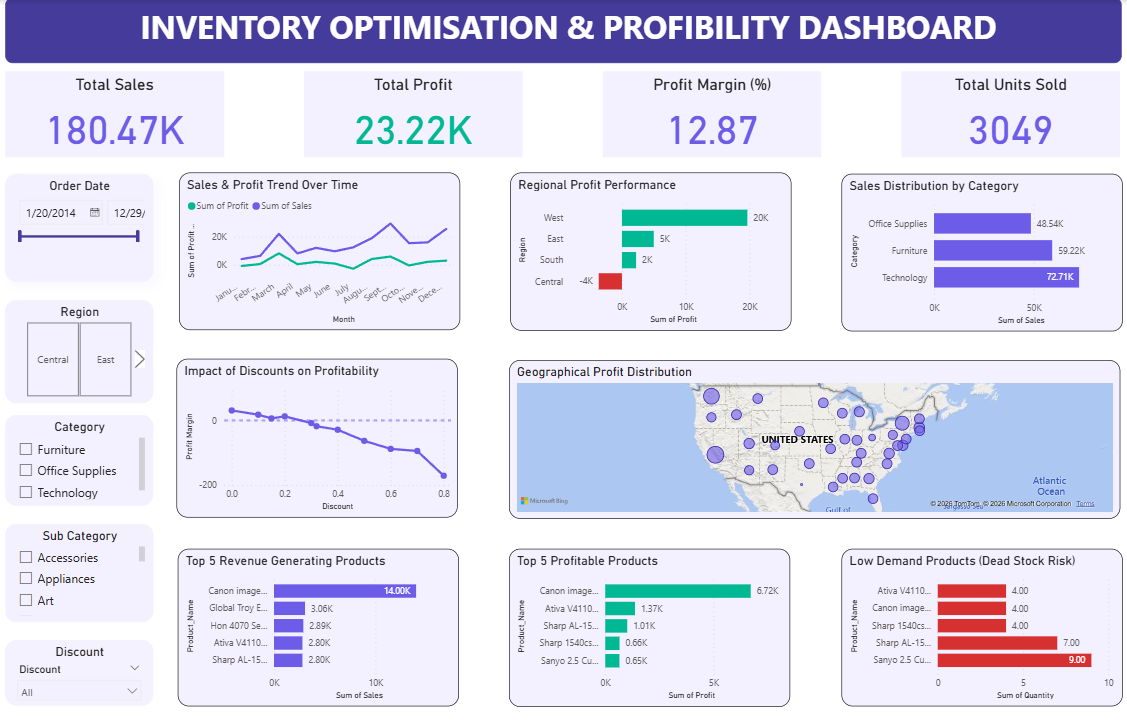

The dashboard page shown, as its layout file describes it:
{"tool":"powerbi","page":{"name":"Page 1","canvas":[1553,1000],"ordinal":0},"visuals":[{"type":"card","title":"Total Sales","fields":{"Values":["Sum(retail_data.Sales)"]},"box":[42.1,95.5,293.3,115],"z":0},{"type":"clusteredBarChart","title":"Regional Profit Performance","fields":{"Category":["retail_data.Region"],"Y":["Sum(retail_data.Profit)"]},"box":[718.5,230.5,376.7,211.7],"z":1000},{"type":"clusteredBarChart","title":"Sales Distribution by Category","fields":{"Category":["retail_data.Category"],"Y":["Sum(retail_data.Sales)"]},"box":[1162.5,232.8,376.9,211.1],"z":2000},{"type":"lineChart","title":"Sales & Profit Trend Over Time","fields":{"Category":["retail_data.Order_Date.Variation.Date Hierarchy.Month"],"Y":["Sum(retail_data.Profit)","Sum(retail_data.Sales)"]},"box":[274.7,231.2,376.9,211.1],"z":3000},{"type":"slicer","title":"Region","fields":{"Values":["retail_data.Region"]},"box":[42.1,402.1,198.3,138.3],"z":4000},{"type":"slicer","title":"Category","fields":{"Values":["retail_data.Category"]},"box":[42.1,555.5,198.3,121.7],"z":5000},{"type":"textbox","box":[42.1,-2.5,1496,88],"z":6000},{"type":"card","title":"Total Profit","fields":{"Values":["Sum(retail_data.Profit)"]},"box":[442.6,95.5,293,115],"z":7000},{"type":"card","title":"Profit Margin (%)","fields":{"Values":["retail_data.Profit Margin"]},"box":[842.7,95.5,293,115],"z":8000},{"type":"card","title":"Total Units Sold","fields":{"Values":["Sum(retail_data.Quantity)"]},"box":[1242.9,95.5,293.1,115.6],"z":9000},{"type":"lineChart","title":"Impact of Discounts on Profitability","fields":{"Y":["retail_data.Profit Margin"],"Category":["retail_data.Discount"]},"box":[271.4,480.8,376.9,212.7],"z":10000},{"type":"clusteredBarChart","title":"Top 5 Revenue Generating Products","fields":{"Category":["retail_data.Product_Name"],"Y":["Sum(retail_data.Sales)"]},"box":[273,735.3,376.9,211.1],"z":11000},{"type":"clusteredBarChart","title":"Top 5 Profitable Products","fields":{"Category":["retail_data.Product_Name"],"Y":["Sum(retail_data.Profit)"]},"box":[717.7,735.5,376.7,211.7],"z":12000},{"type":"clusteredBarChart","title":"Low Demand Products (Dead Stock Risk)","fields":{"Category":["retail_data.Product_Name"],"Y":["Sum(retail_data.Quantity)"]},"box":[1162.5,735.3,376.9,211.1],"z":13000},{"type":"map","title":"Geographical Profit Distribution","fields":{"Category":["retail_data.State"],"Size":["Sum(retail_data.Profit)"]},"box":[716.2,482.4,819.1,212.7],"z":14000},{"type":"slicer","title":"Sub Category","fields":{"Values":["retail_data.Sub_Category"]},"box":[42.1,701.3,198.3,131.7],"z":15000},{"type":"slicer","title":"Order Date","fields":{"Values":["retail_data.Order_Date"]},"box":[42.1,232.1,198.3,145],"z":16000},{"type":"slicer","title":"Discount","fields":{"Values":["retail_data.Discount"]},"box":[42.1,857.1,198.3,88.3],"z":17000}]}

Visuals, with their boxes in screenshot pixels (x1, y1, x2, y2), scaled from the page's 1553x1000 canvas onto the 1127x721 screenshot:
"Total Sales" card: (left=31, top=69, right=243, bottom=152)
"Regional Profit Performance" clusteredBarChart: (left=521, top=166, right=795, bottom=319)
"Sales Distribution by Category" clusteredBarChart: (left=844, top=168, right=1117, bottom=320)
"Sales & Profit Trend Over Time" lineChart: (left=199, top=167, right=473, bottom=319)
"Region" slicer: (left=31, top=290, right=174, bottom=390)
"Category" slicer: (left=31, top=401, right=174, bottom=488)
textbox: (left=31, top=0, right=1116, bottom=62)
"Total Profit" card: (left=321, top=69, right=534, bottom=152)
"Profit Margin (%)" card: (left=612, top=69, right=824, bottom=152)
"Total Units Sold" card: (left=902, top=69, right=1115, bottom=152)
"Impact of Discounts on Profitability" lineChart: (left=197, top=347, right=470, bottom=500)
"Top 5 Revenue Generating Products" clusteredBarChart: (left=198, top=530, right=472, bottom=682)
"Top 5 Profitable Products" clusteredBarChart: (left=521, top=530, right=794, bottom=683)
"Low Demand Products (Dead Stock Risk)" clusteredBarChart: (left=844, top=530, right=1117, bottom=682)
"Geographical Profit Distribution" map: (left=520, top=348, right=1114, bottom=501)
"Sub Category" slicer: (left=31, top=506, right=174, bottom=601)
"Order Date" slicer: (left=31, top=167, right=174, bottom=272)
"Discount" slicer: (left=31, top=618, right=174, bottom=682)
